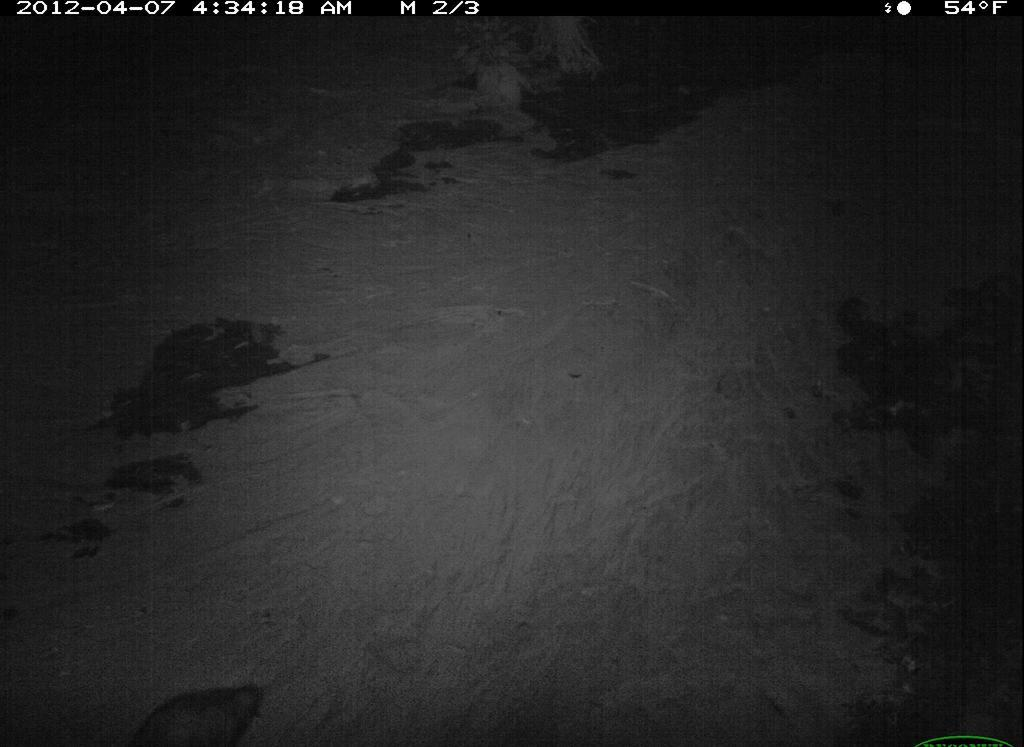opossum: (120, 671, 268, 747)
